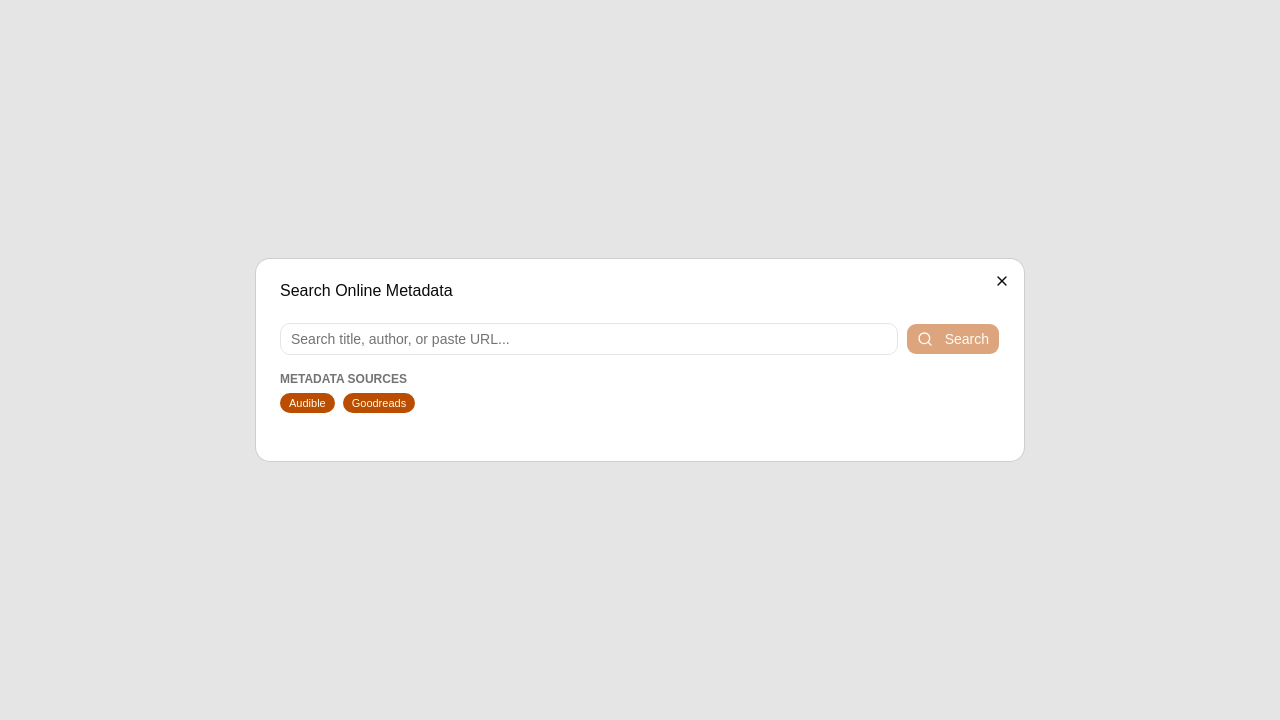
BookSearchDialog › disables Search, rather than silently re-selecting every source, once the user toggles every source off
Check: the icon "Audible" is shown, box left=280, top=393, right=335, bottom=413
In the field with placeholder "Search title, author, or paste URL...": point(589, 339) left=280, top=323, right=898, bottom=355, type "mole"
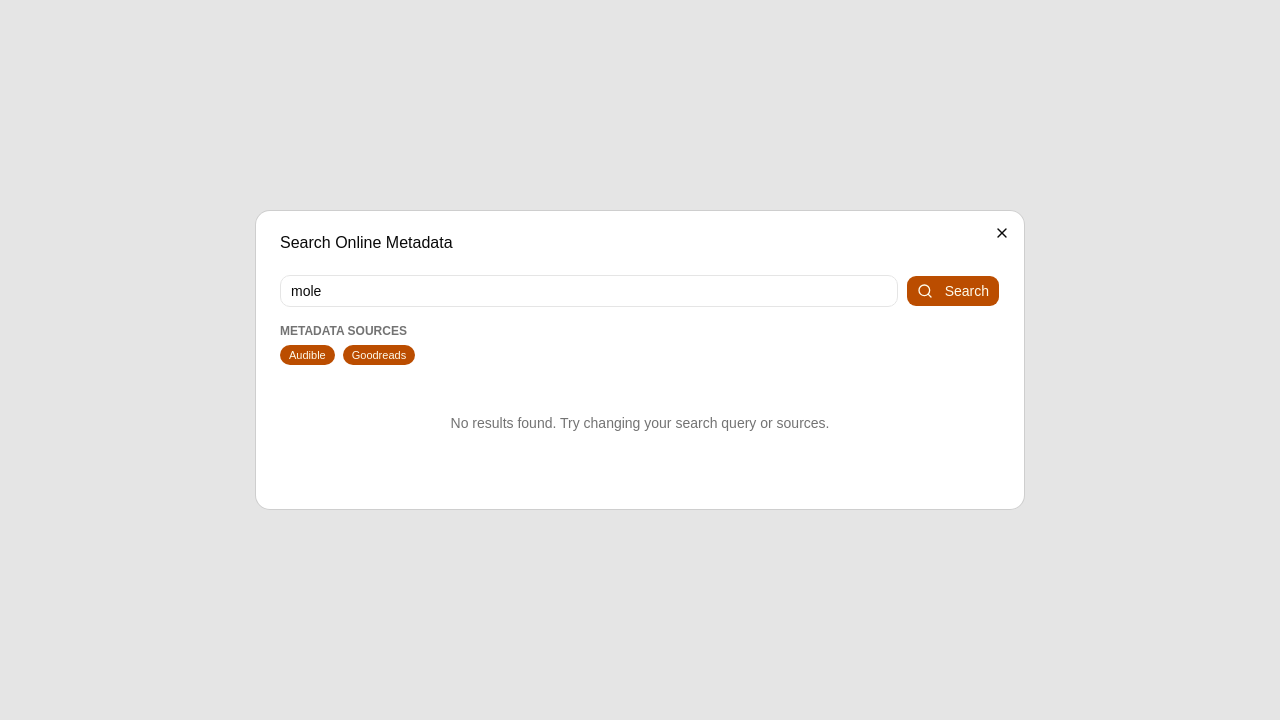
Click the icon "Audible": point(307, 355) left=280, top=345, right=335, bottom=365
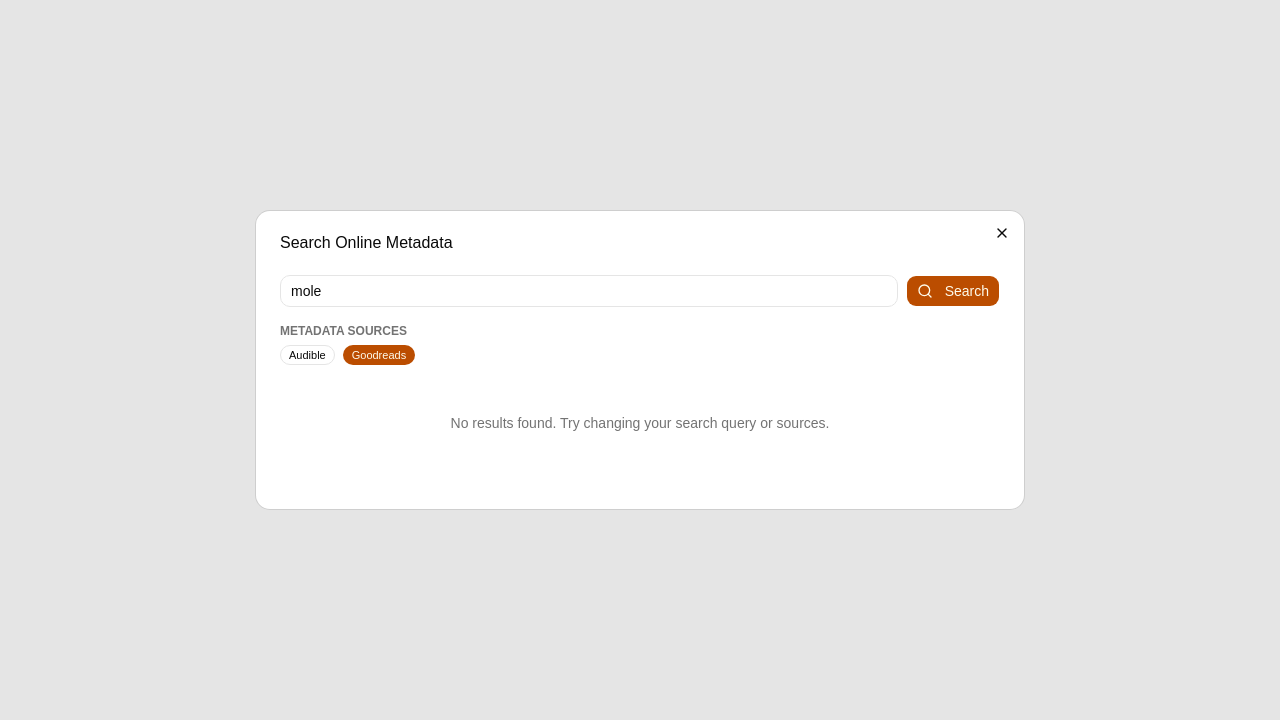
Click the text "Goodreads": point(379, 355) left=343, top=345, right=415, bottom=365
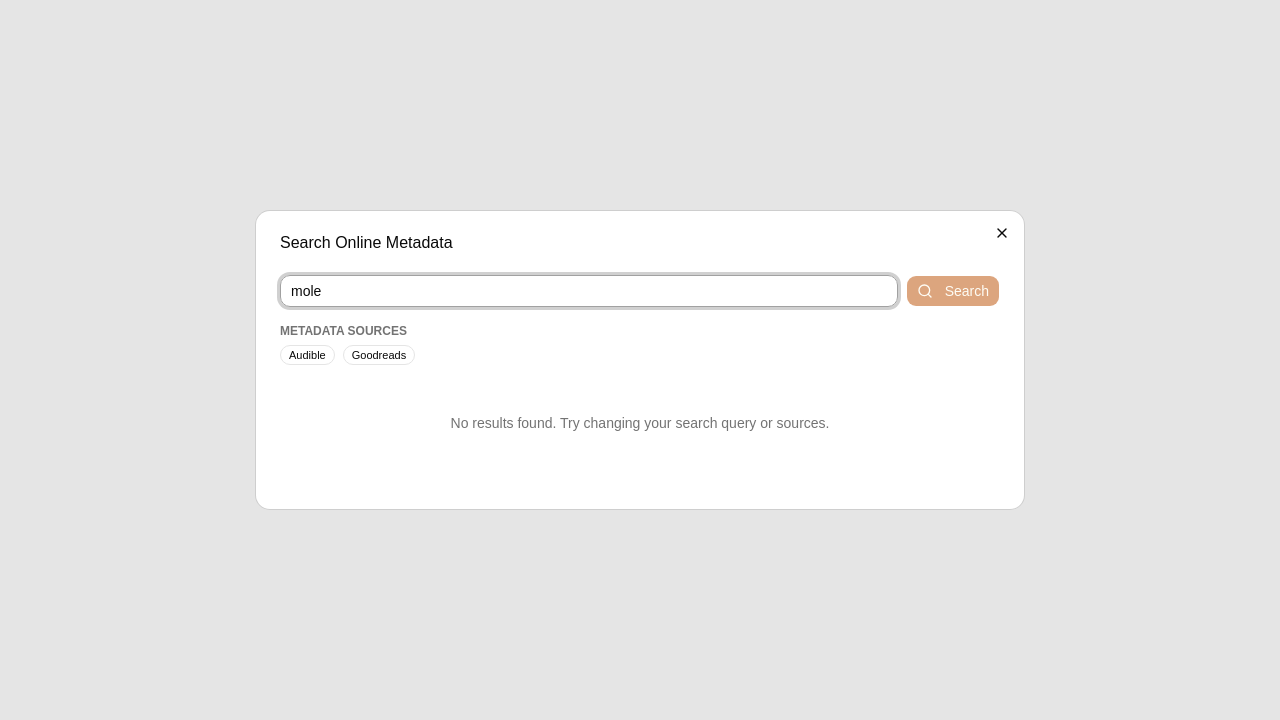
Check: the button "Search" is disabled, box left=906, top=275, right=1000, bottom=307
